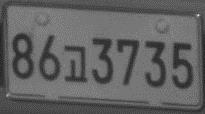3: (90, 37, 113, 84), (145, 40, 167, 87)
5: (172, 42, 192, 88)
6: (38, 34, 61, 82)
7: (115, 38, 140, 86)
8: (11, 31, 34, 81)
고: (62, 44, 87, 84)
